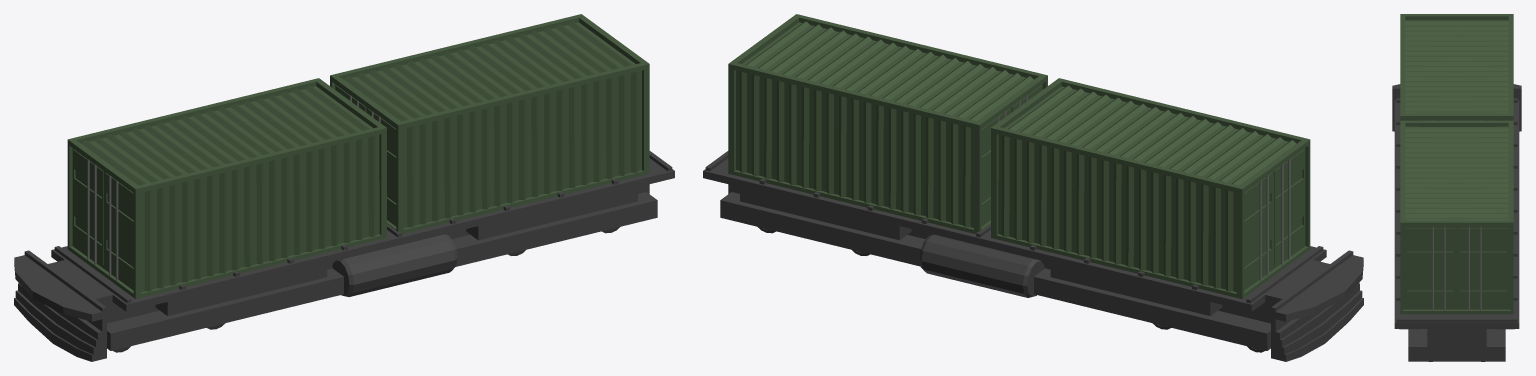
File: Cargo Train Container.glb
3 views of the same model, side by side, from view 1: azimuth 30°, elevation 25°; view 2: azimuth 150°, elevation 25°; view 3: azimuth 270°, elevation 25° (orthographic). The views are drawn at different scales.
Visible parts, largest first — view 1: Wagon_Container; view 2: Wagon_Container; view 3: Wagon_Container.
Part boxes in pixels (x1,y1,x2,y2): Wagon_Container: [14, 14, 674, 361]; Wagon_Container: [703, 14, 1363, 361]; Wagon_Container: [1392, 14, 1521, 361].
Bounding box in the file's own units: 9.26 × 2.58 × 2.06.
